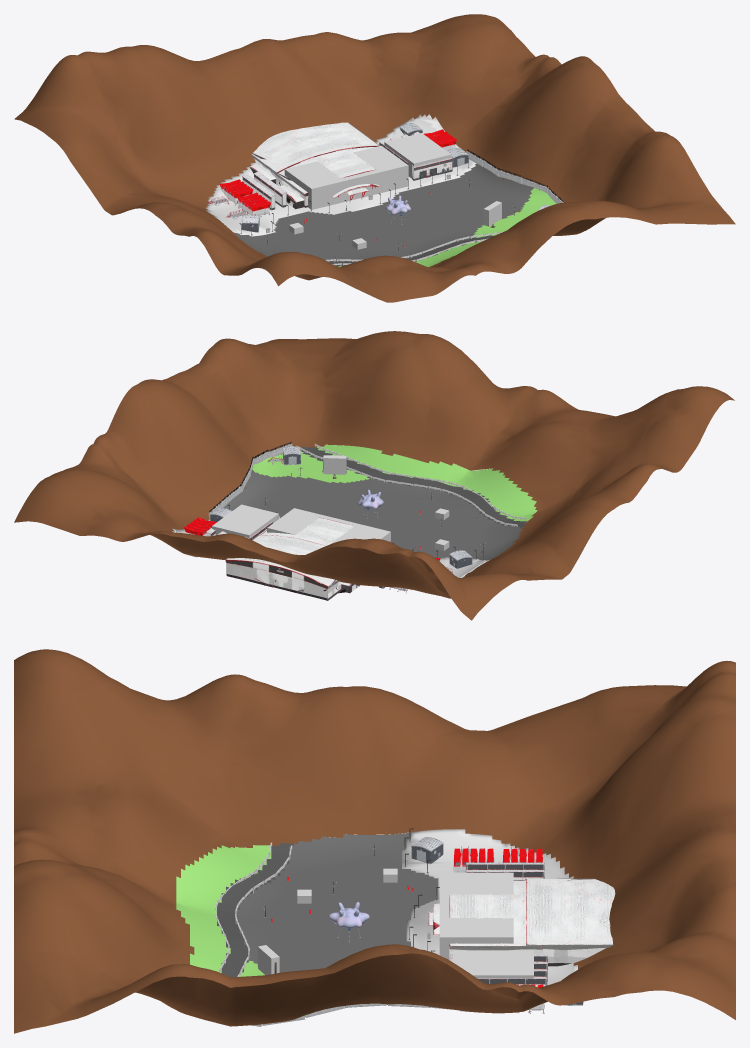
File: Nevada.pre-merged-base-20261012.glb
The picture shows the model from 3 angles, top to bottom: view 1: azimuth 30°, elevation 25°; view 2: azimuth 150°, elevation 25°; view 3: azimuth 270°, elevation 25°; orthographic projection. The views are drawn at different scales.
Parts seen in each view (by area): view 1: mountain, garage, building_floor, Data Center, Citadel_Main_Entrance.001, Citadel_Main_Entrance, land, Cooler, Citadel_Wall_Service_Bay, TSC_Cooling_Module, TSC_Cooling_Module.001; view 2: mountain, garage, land, Citadel_Main_Entrance.001, road, Data Center, Cooler, Citadel_Main_Entrance, Guardrail_Straight.019, Guardrail_Straight.001; view 3: mountain, garage, Citadel_Main_Entrance.001, land, building_floor, Data Center, Citadel_Main_Entrance, road, Cooler, ECHO_Mesh, Citadel_Wall_Straight.005, Utility_Enclosure_A (+1 smaller).
Part boxes in pixels (bbox=[...]): mountain: bbox=[14, 14, 735, 302]; garage: bbox=[234, 163, 533, 262]; building_floor: bbox=[205, 114, 476, 236]; Data Center: bbox=[284, 145, 408, 209]; Citadel_Main_Entrance.001: bbox=[249, 122, 379, 183]; Citadel_Main_Entrance: bbox=[270, 147, 380, 209]; land: bbox=[338, 188, 556, 267]; Cooler: bbox=[384, 133, 451, 178]; Citadel_Wall_Service_Bay: bbox=[412, 157, 452, 180]; TSC_Cooling_Module: bbox=[237, 192, 270, 217]; TSC_Cooling_Module.001: bbox=[219, 179, 253, 205]; mountain: bbox=[14, 331, 734, 620]; garage: bbox=[223, 470, 522, 560]; land: bbox=[252, 444, 537, 521]; Citadel_Main_Entrance.001: bbox=[225, 535, 360, 600]; road: bbox=[300, 446, 526, 528]; Data Center: bbox=[267, 508, 390, 543]; Cooler: bbox=[212, 504, 278, 538]; Citadel_Main_Entrance: bbox=[260, 517, 390, 545]; Guardrail_Straight.019: bbox=[296, 445, 517, 526]; Guardrail_Straight.001: bbox=[314, 443, 526, 520]; mountain: bbox=[14, 649, 735, 1033]; garage: bbox=[235, 832, 438, 1007]; Citadel_Main_Entrance.001: bbox=[525, 878, 615, 966]; land: bbox=[176, 845, 315, 1016]; building_floor: bbox=[402, 829, 577, 985]; Data Center: bbox=[439, 872, 513, 959]; Citadel_Main_Entrance: bbox=[428, 880, 542, 960]; road: bbox=[217, 843, 293, 977]; Cooler: bbox=[453, 950, 533, 978]; ECHO_Mesh: bbox=[328, 902, 369, 942]; Citadel_Wall_Straight.005: bbox=[466, 862, 544, 878]; Utility_Enclosure_A: bbox=[411, 837, 443, 864].
Bounding box in the file's own units: 100 × 24.37 × 100.
20 materials, 13 textured.
